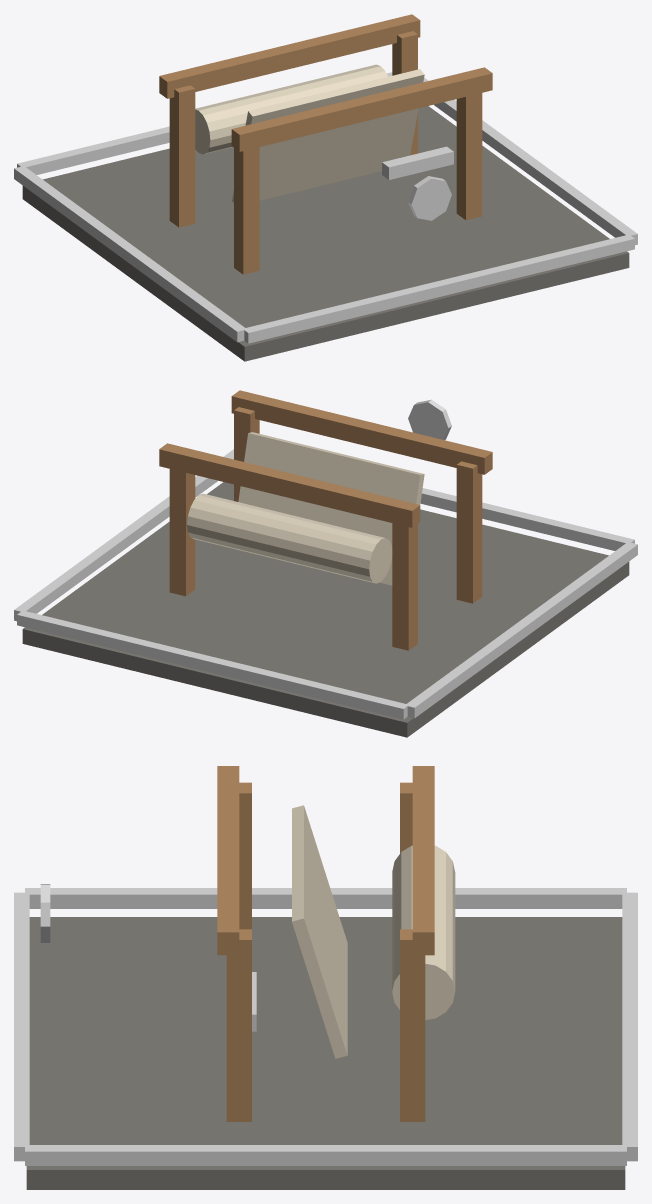
The model's file is t1_loom.glb.
3 views of the same model, one above another, from view 1: azimuth 30°, elevation 25°; view 2: azimuth 150°, elevation 25°; view 3: azimuth 270°, elevation 25° (orthographic). The views are drawn at different scales.
Visible parts, largest first — view 1: FootprintBase, ClothSheet, FrontBeam, TierFrontTrim, BackBeam, TierLeftTrim, ClothRoll, FramePost.001, TierRightTrim, FramePost.002, FramePost, TierBackTrim (+3 smaller); view 2: FootprintBase, ClothRoll, ClothSheet, BackBeam, TierBackTrim, FrontBeam, TierLeftTrim, FramePost, TierRightTrim, FramePost.001, FramePost.003, TierFrontTrim (+2 smaller); view 3: FootprintBase, TierRightTrim, TierLeftTrim, ClothSheet, ClothRoll, FramePost.002, FramePost.003, BackBeam, FrontBeam, TierFrontTrim, TierBackTrim, FramePost (+2 smaller).
Part boxes in pixels (bbox=[...]): FootprintBase: bbox=[22, 106, 629, 361]; ClothSheet: bbox=[232, 69, 424, 202]; FrontBeam: bbox=[231, 67, 492, 151]; TierFrontTrim: bbox=[243, 234, 634, 343]; BackBeam: bbox=[159, 14, 420, 98]; TierLeftTrim: bbox=[14, 167, 246, 342]; ClothRoll: bbox=[195, 64, 387, 154]; FramePost.001: bbox=[169, 85, 195, 227]; TierRightTrim: bbox=[423, 77, 637, 245]; FramePost.002: bbox=[456, 93, 482, 220]; FramePost: bbox=[234, 147, 259, 274]; TierBackTrim: bbox=[17, 72, 392, 174]; FootprintBase: bbox=[22, 482, 629, 737]; ClothRoll: bbox=[187, 493, 392, 583]; ClothSheet: bbox=[238, 432, 424, 585]; BackBeam: bbox=[159, 443, 420, 527]; TierBackTrim: bbox=[17, 610, 407, 719]; FrontBeam: bbox=[231, 390, 492, 474]; TierLeftTrim: bbox=[405, 543, 637, 718]; FramePost: bbox=[456, 461, 482, 603]; TierRightTrim: bbox=[14, 449, 233, 621]; FramePost.001: bbox=[392, 523, 417, 650]; FramePost.003: bbox=[169, 469, 195, 596]; TierFrontTrim: bbox=[420, 488, 634, 550]; FootprintBase: bbox=[26, 917, 625, 1189]; TierRightTrim: bbox=[25, 1145, 626, 1165]; TierLeftTrim: bbox=[25, 888, 626, 908]; ClothSheet: bbox=[292, 805, 347, 1058]; ClothRoll: bbox=[392, 845, 455, 1020]; FramePost.002: bbox=[226, 929, 251, 1121]; FramePost.003: bbox=[400, 929, 425, 1121]; BackBeam: bbox=[412, 766, 434, 955]; FrontBeam: bbox=[217, 766, 239, 955]; TierFrontTrim: bbox=[14, 892, 29, 1161]; TierBackTrim: bbox=[622, 892, 637, 1161]; FramePost: bbox=[239, 782, 251, 929].
Size of the model in its own units: 3.96 by 1.5 by 3.96.
